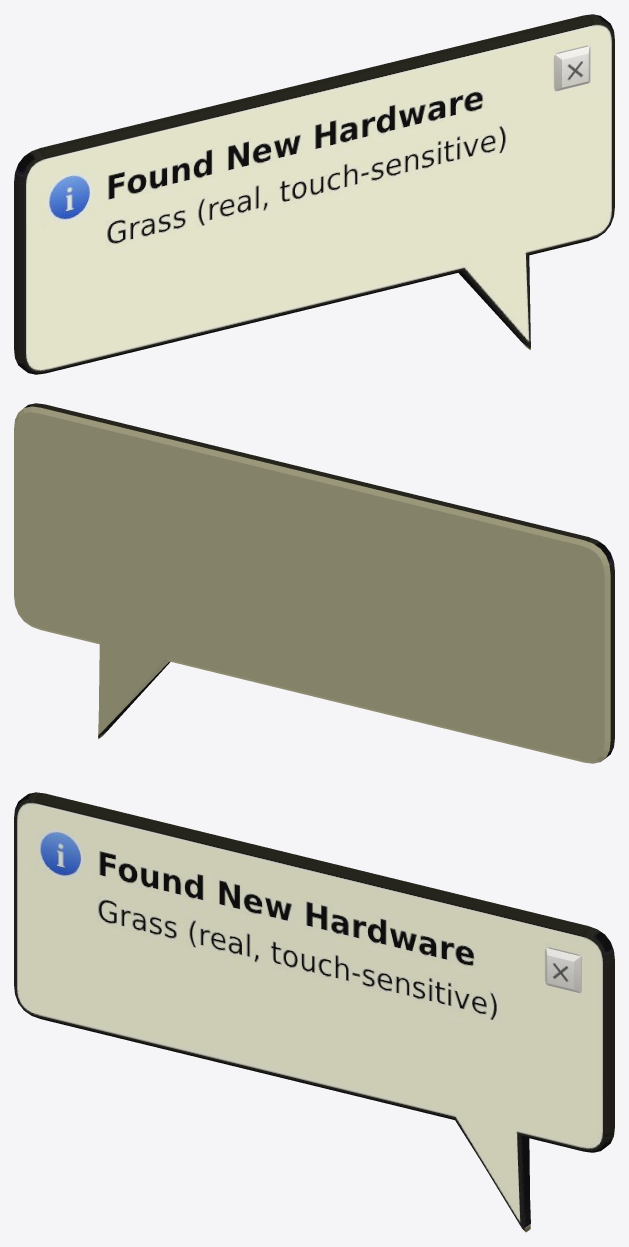
File: balloon-grass.glb
3 views of the same model, one above another, from view 1: azimuth 30°, elevation 25°; view 2: azimuth 150°, elevation 25°; view 3: azimuth 330°, elevation 25° (orthographic).
Visible parts, largest first — view 1: balloon; view 2: balloon; view 3: balloon.
Part boxes in pixels (<box>): balloon: <box>14,14,614,374</box>; balloon: <box>14,403,614,763</box>; balloon: <box>14,792,614,1232</box>.
Bounding box in the file's own units: 0.466 × 0.237 × 0.016.
Materials: 1 (1 with a texture image).
